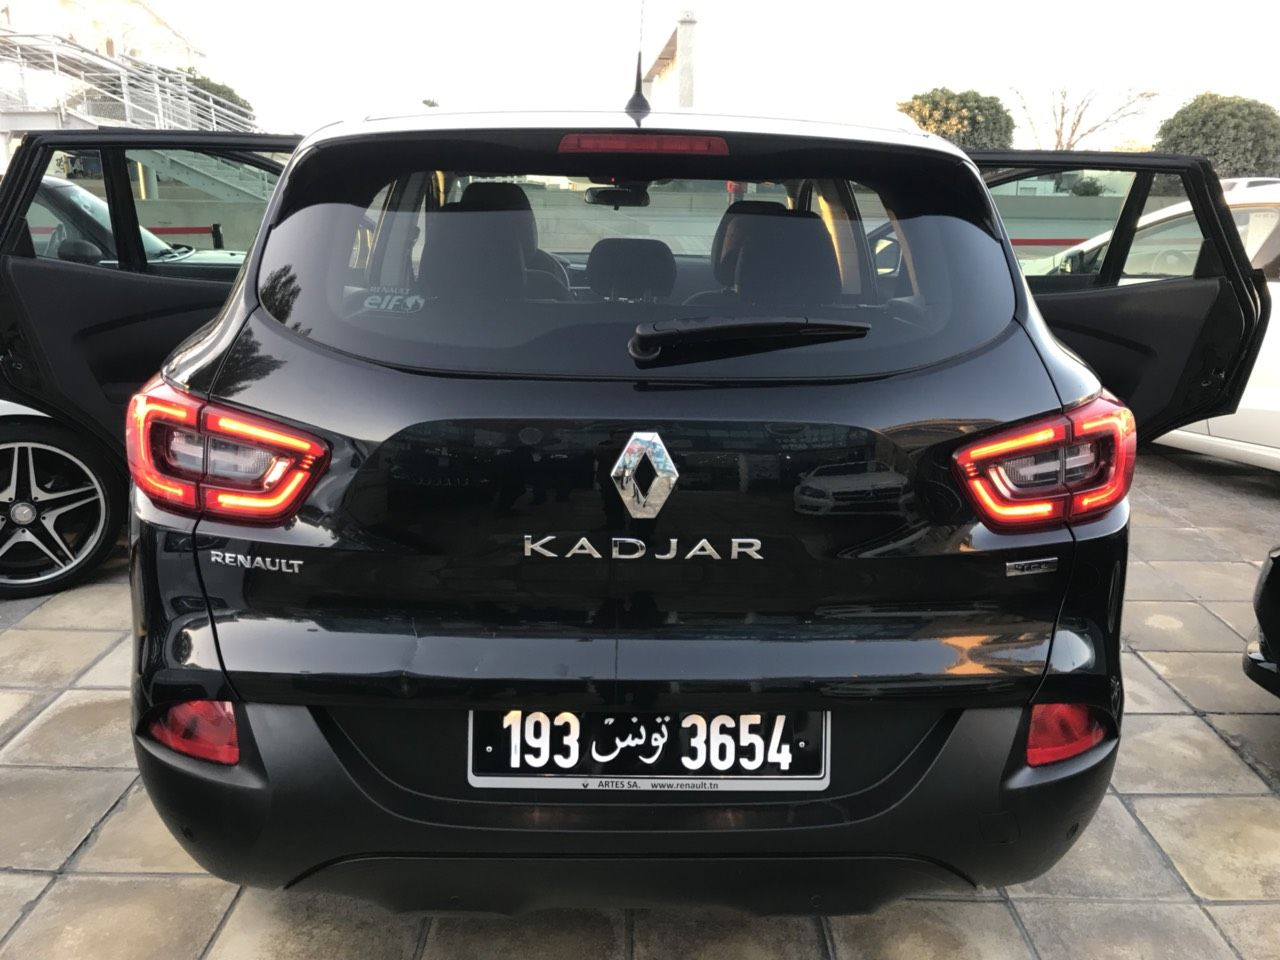LP: (471, 705, 829, 783)
